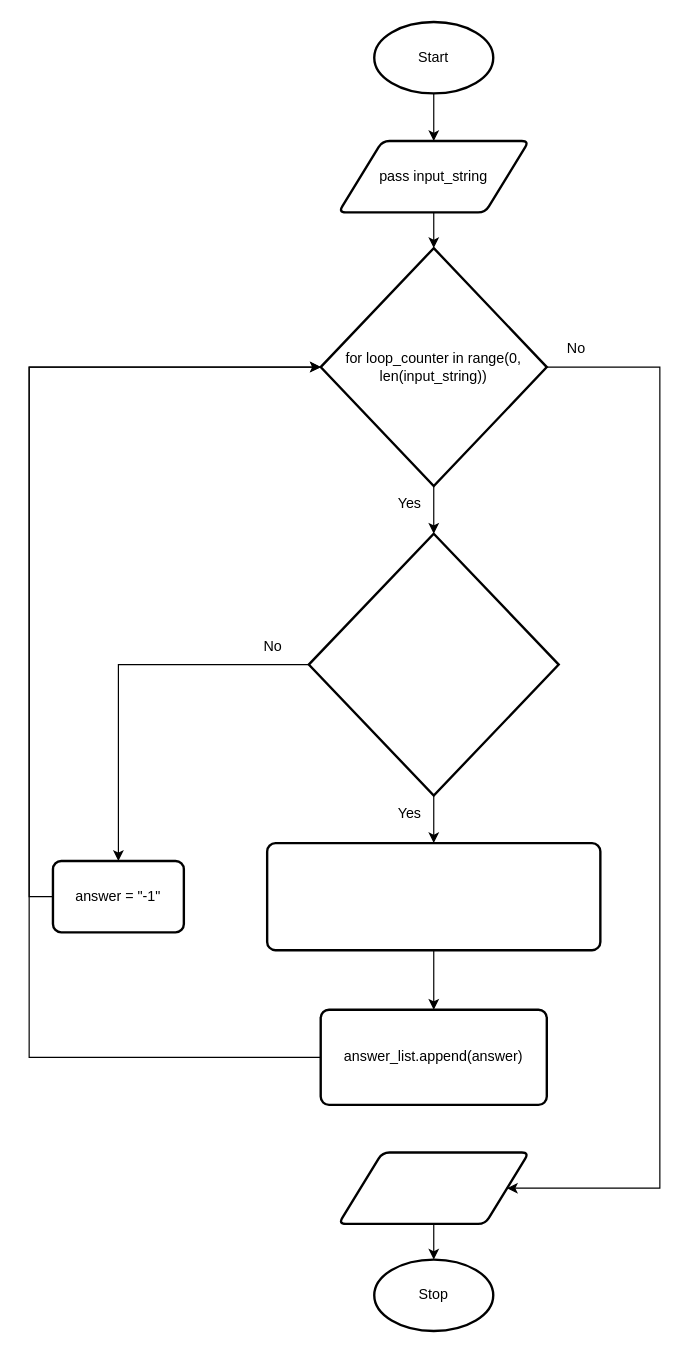
This 690x1352 diagram has some shape labels left out. The shapes that lost their labels are listed below. From the top down, each one's centre as x and y in pixels, then its label:
At [433,664]: "if input_string[loop_counter] in dictionary.keys()".
At [433,896]: "answer = dictionary[input_string[loop_counter]]".
At [433,1188]: "return answer_list".
